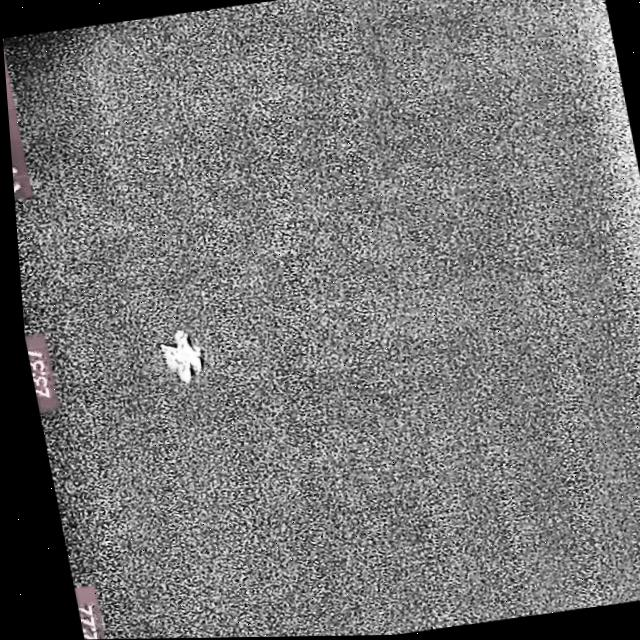drone: (149, 326, 202, 385)
